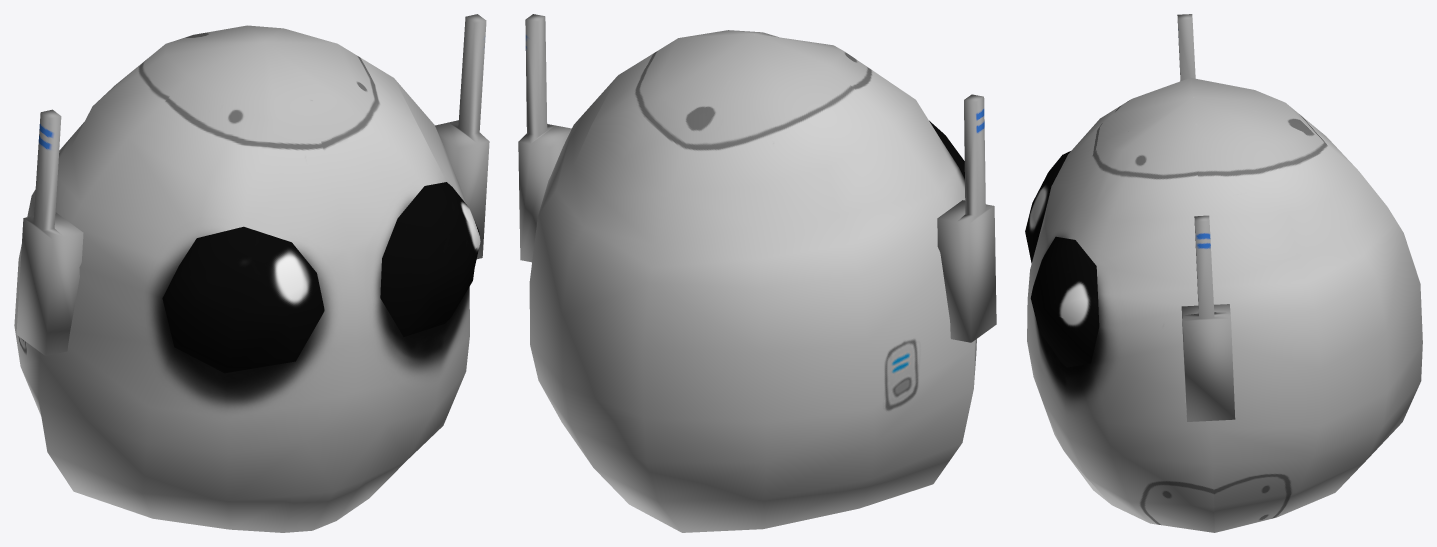
Rendered from Gio.FBX.
3 views of the same model, side by side, from view 1: azimuth 30°, elevation 25°; view 2: azimuth 150°, elevation 25°; view 3: azimuth 270°, elevation 25° (orthographic). The views are drawn at different scales.
Parts seen in each view (by area): view 1: Gio; view 2: Gio; view 3: Gio.
Part boxes in pixels (x1,y1,x2,y2): Gio: [14, 14, 489, 532]; Gio: [518, 14, 996, 532]; Gio: [1025, 14, 1422, 532].
Size of the model in its own units: 69.8 by 64.45 by 59.97.
